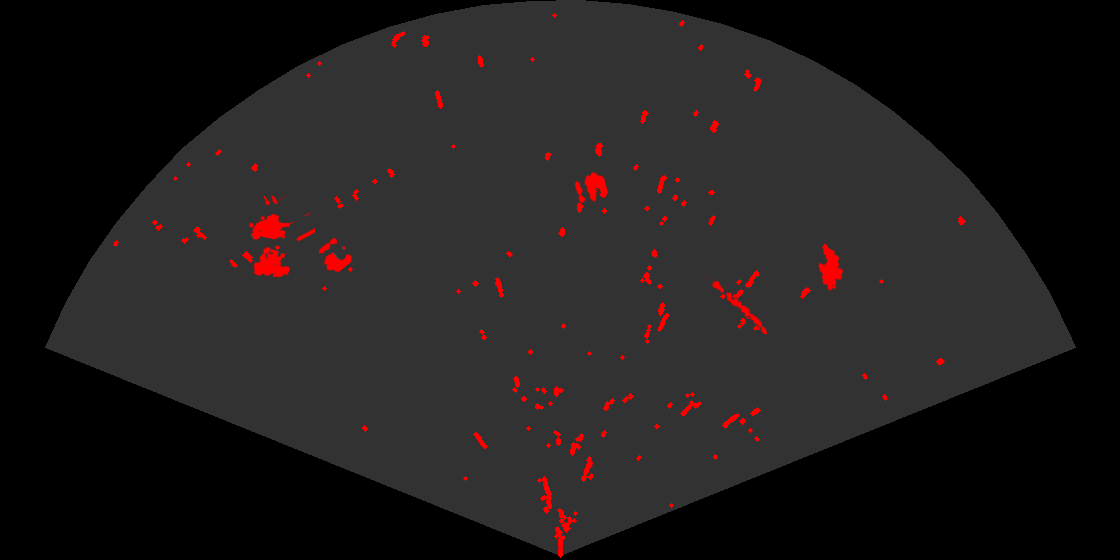AUV: (817, 242, 845, 292)
ball: (317, 236, 354, 274), (573, 171, 610, 205)
cage: (248, 196, 315, 279)
chain: (706, 273, 769, 336)
